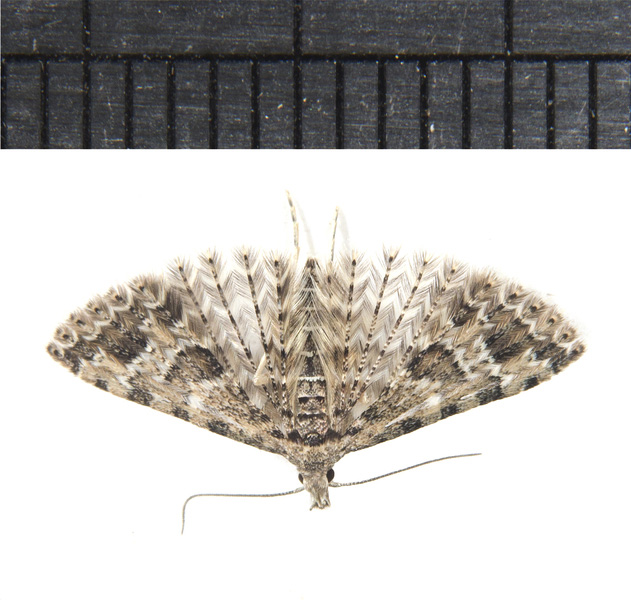Alucitidae: (38, 181, 588, 534)
moth: (40, 183, 590, 536)
